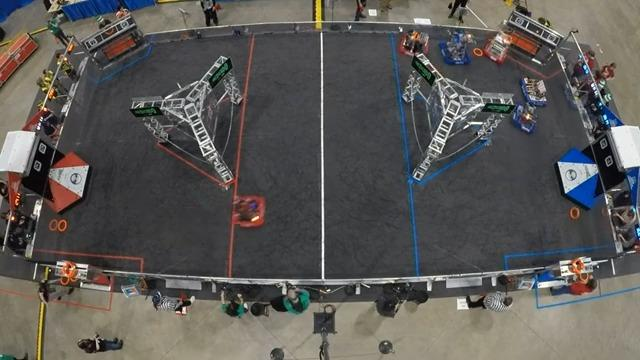robot: (232, 191, 266, 231), (441, 27, 473, 68), (517, 73, 552, 108), (513, 100, 542, 138), (402, 23, 432, 59), (485, 29, 516, 63)
